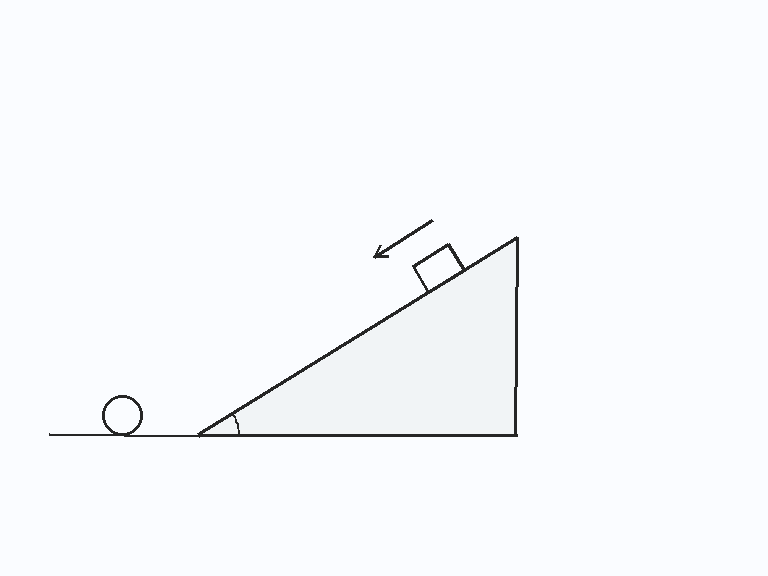ball: (100, 393, 144, 437)
block: (410, 242, 466, 294)
ramp: (197, 235, 518, 437)
